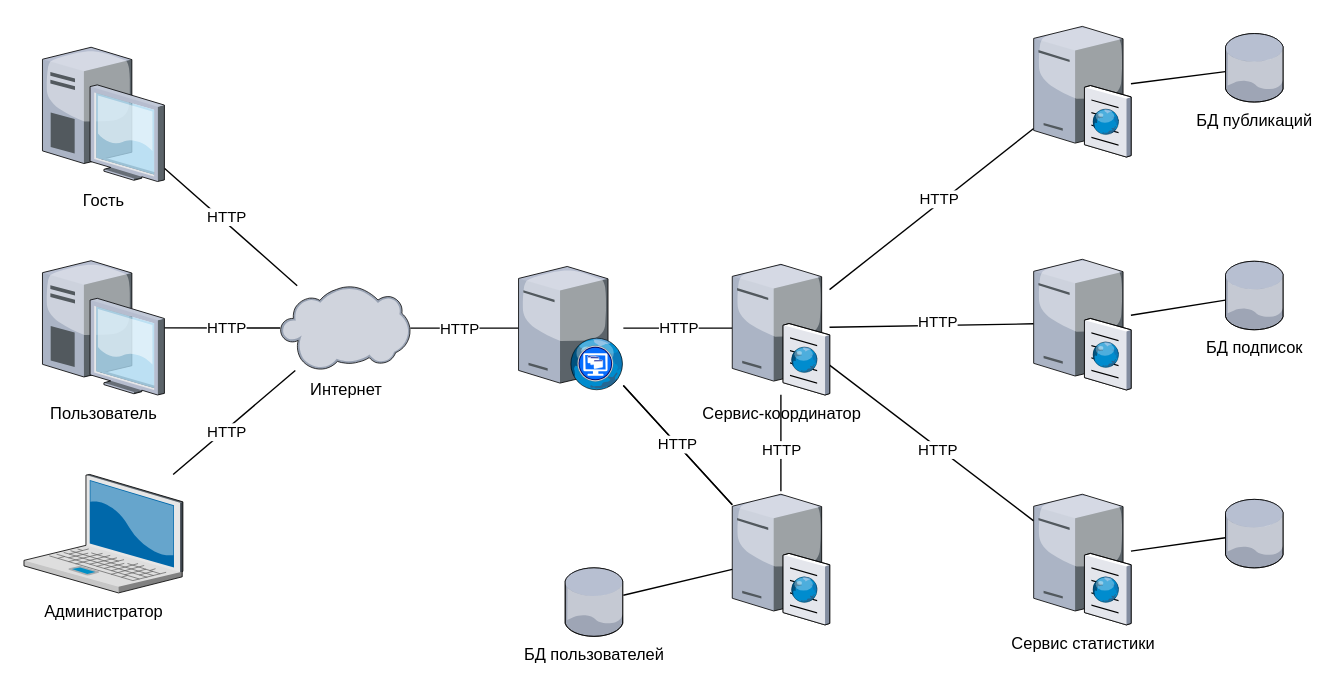
The diagram is 1336 pixels wide and 697 high, and some of its shapes have lost their labels. The shapes that lost their labels are listed below. From the top down, each one's box as (x1, y1, x2, y2) in pixels, then its label:
(1033, 23, 1130, 156): Сервис публикаций
(518, 266, 623, 389): Фронтенд
(1033, 256, 1130, 389): Сервис подписок
(1225, 499, 1283, 567): БД статистики
(732, 490, 829, 624): Сервис регистрации и авторизации
